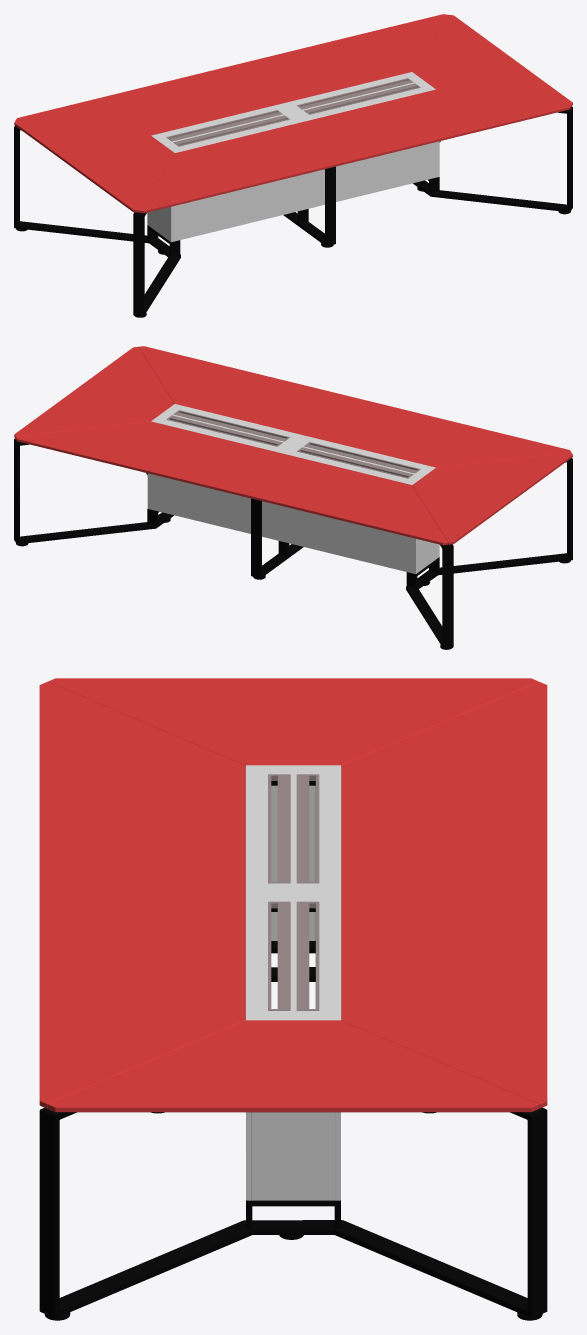
The model's file is table.fbx.
3 views of the same model, one above another, from view 1: azimuth 30°, elevation 25°; view 2: azimuth 150°, elevation 25°; view 3: azimuth 270°, elevation 25° (orthographic). The views are drawn at different scales.
Parts seen in each view (by area): view 1: archmodels_110_012_obj_107, archmodels_110_012_obj_99, archmodels_110_012_obj_104, archmodels_110_012_obj_105, archmodels_110_012_obj_101, archmodels_110_012_obj_100, archmodels_110_012_obj_102; view 2: archmodels_110_012_obj_107, archmodels_110_012_obj_99, archmodels_110_012_obj_103, archmodels_110_012_obj_106, archmodels_110_012_obj_101, archmodels_110_012_obj_100, archmodels_110_012_obj_102; view 3: archmodels_110_012_obj_107, archmodels_110_012_obj_99, archmodels_110_012_obj_101, archmodels_110_012_obj_100, archmodels_110_012_obj_98, archmodels_110_012_obj_102.
Boxes of the visible parts, x1,y1,x2,y2 form: archmodels_110_012_obj_107: (14, 14, 572, 213); archmodels_110_012_obj_99: (14, 106, 572, 316); archmodels_110_012_obj_104: (169, 174, 305, 242); archmodels_110_012_obj_105: (305, 141, 439, 209); archmodels_110_012_obj_101: (151, 72, 435, 152); archmodels_110_012_obj_100: (166, 78, 420, 146); archmodels_110_012_obj_102: (149, 207, 169, 240); archmodels_110_012_obj_107: (14, 346, 572, 545); archmodels_110_012_obj_99: (14, 438, 572, 648); archmodels_110_012_obj_103: (281, 506, 417, 574); archmodels_110_012_obj_106: (147, 473, 281, 541); archmodels_110_012_obj_101: (151, 404, 435, 484); archmodels_110_012_obj_100: (166, 410, 420, 478); archmodels_110_012_obj_102: (417, 539, 437, 572); archmodels_110_012_obj_107: (39, 678, 547, 1112); archmodels_110_012_obj_99: (39, 781, 547, 1318); archmodels_110_012_obj_101: (245, 765, 341, 1020); archmodels_110_012_obj_100: (268, 774, 318, 1010); archmodels_110_012_obj_98: (251, 1112, 334, 1200); archmodels_110_012_obj_102: (271, 785, 315, 940).
Bounding box in the file's own units: 320 × 75.18 × 160.
